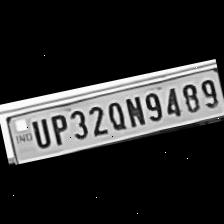2: (83, 100, 109, 137)
3: (64, 104, 90, 141)
4: (158, 82, 182, 119)
8: (178, 78, 202, 114)
9: (139, 88, 164, 124), (195, 74, 220, 110)
N: (120, 91, 146, 128)
P: (44, 109, 72, 146)
Q: (102, 97, 128, 132)
U: (26, 114, 51, 150)
